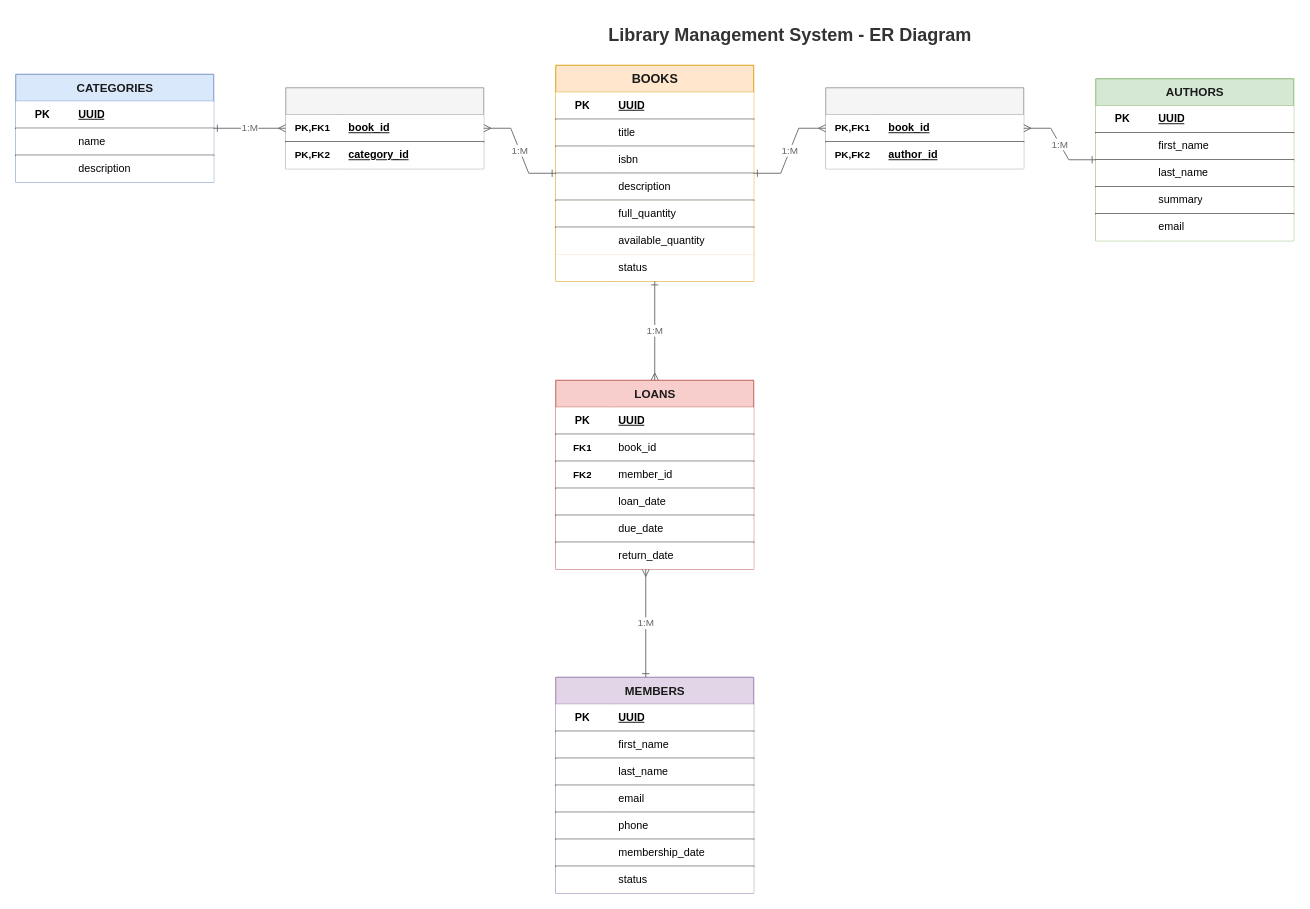
Image size: 1310x909. Some labels were removed from this diagram. The shapes that lost their labels are listed below. From the top down, each one's box as (x1, y1, x2, y2) in pixels, then its label:
(285, 87, 484, 169): BOOK_CATEGORIES
(825, 87, 1024, 169): BOOK_AUTHORS
